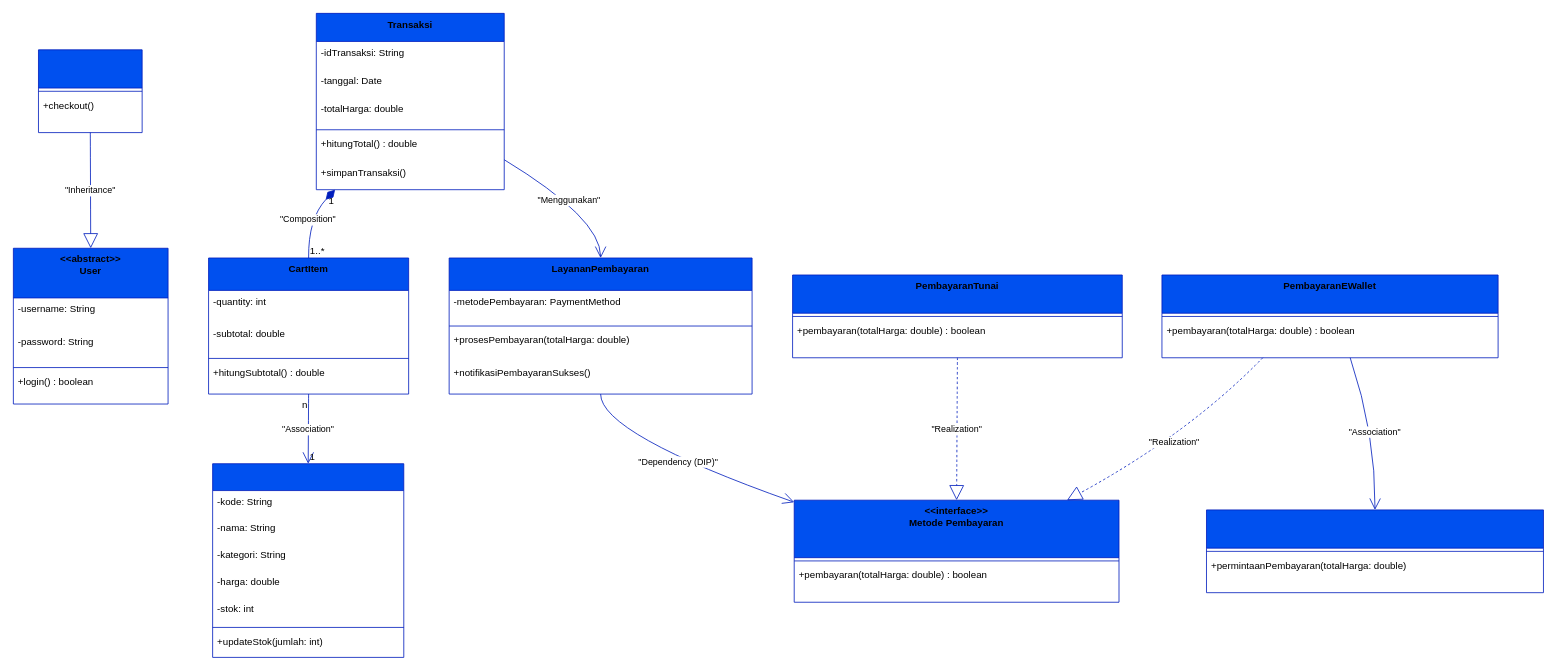
This 1557x671 diagram has some shape labels left out. Here are the shapes that lost their labels. From the top down, the box of each, then its label:
(38, 49, 142, 133): Kasir
(212, 463, 404, 657): Product
(1206, 509, 1543, 593): PaymentGateway
